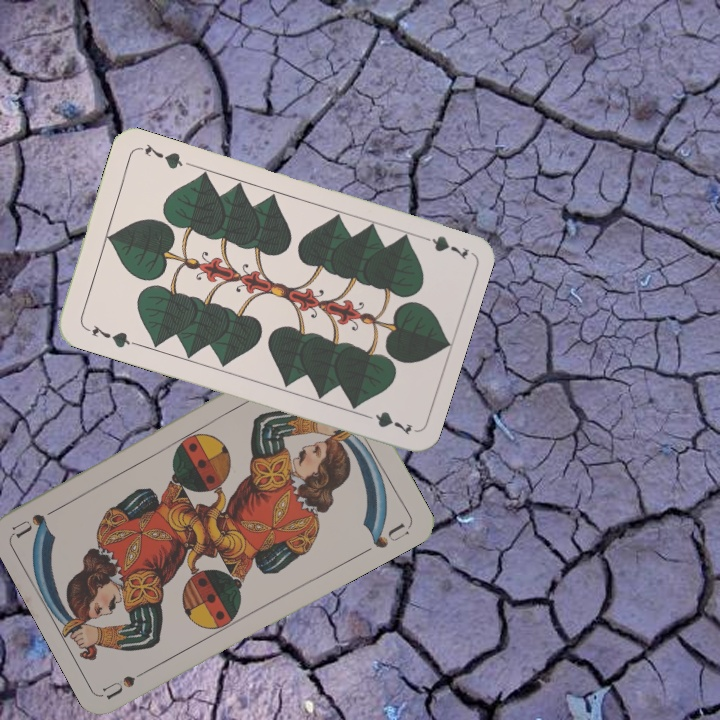G7: (413, 230, 471, 263), (80, 321, 138, 351)
SU: (100, 662, 156, 701)
